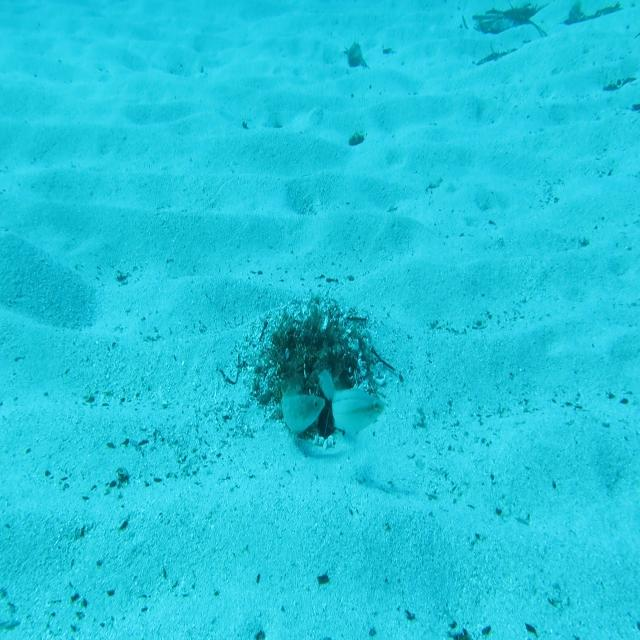DAN_CIRC: (278, 372, 326, 437)
female: (331, 378, 384, 438)
nest: (251, 285, 393, 444)
other_fish: (316, 367, 339, 402)
